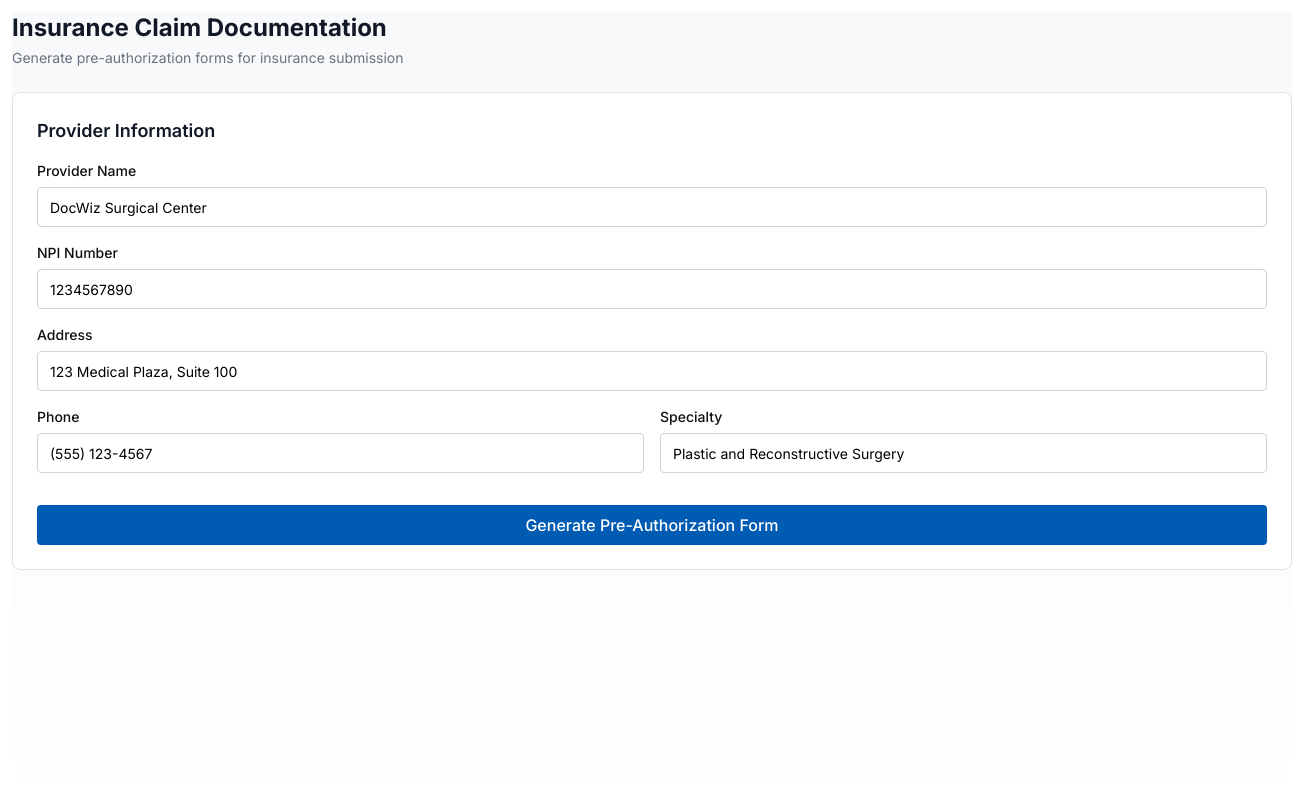
Test: InsuranceClaim › Generated Claim Display › should display claim details after generation
Click the button "Generate Pre-Authorization Form" at point(652, 525), box [37,505,1267,545]
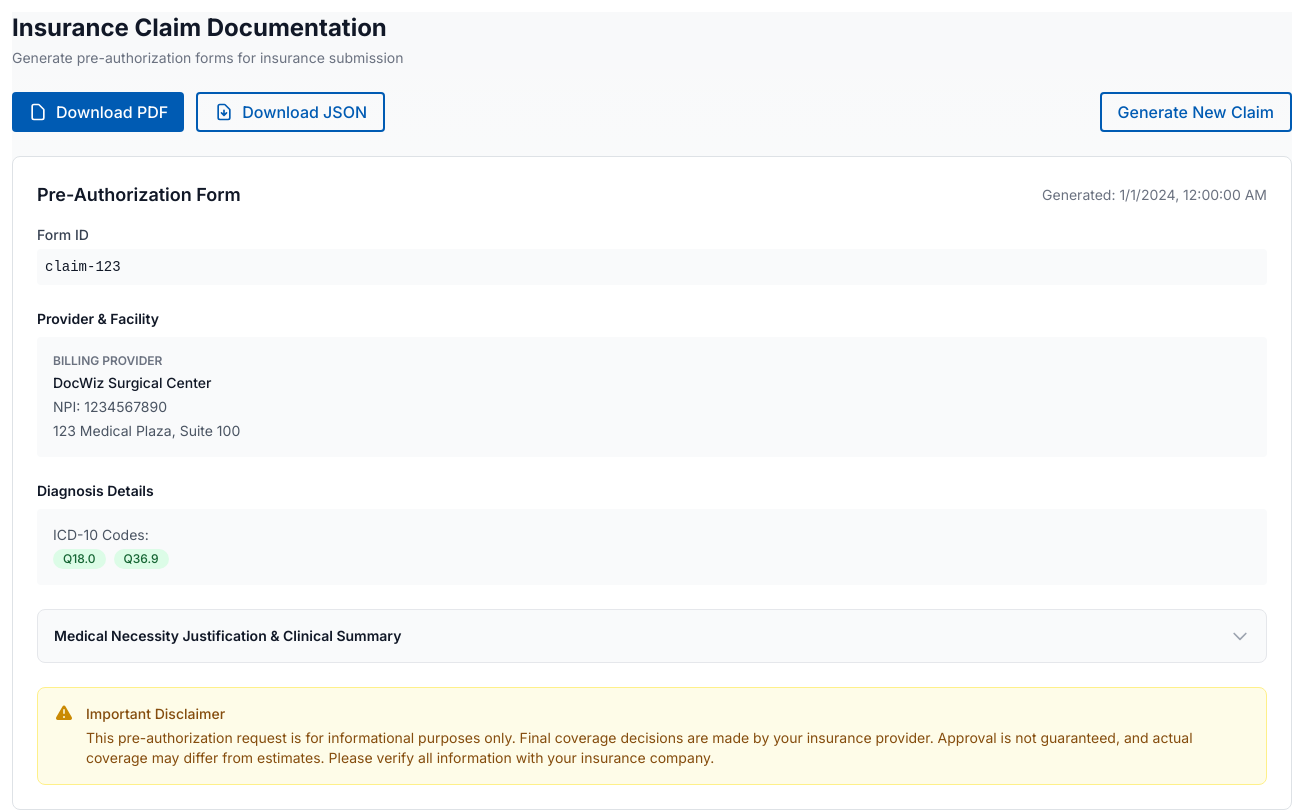
Result: the heading "Pre-Authorization Form" is shown at [37,181,241,209]
Result: the text "Form ID" is shown at [37,226,89,243]
Result: the text "claim-123" is shown at [37,249,1267,285]
